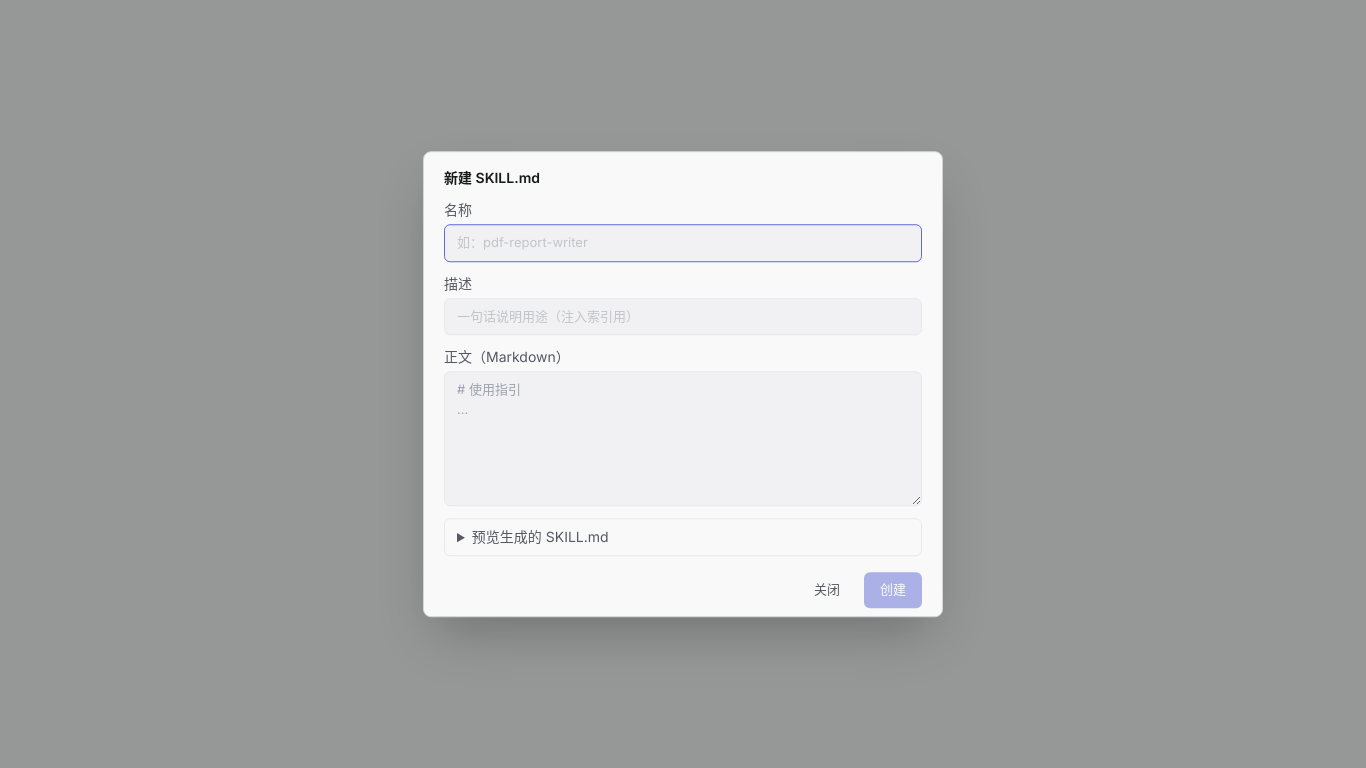
Scenario: SkillCreateDialog › 创建失败内联红字展示且弹窗不关
Type "New One" into the field labelled "名称" at (683, 243), box [444, 224, 922, 262]
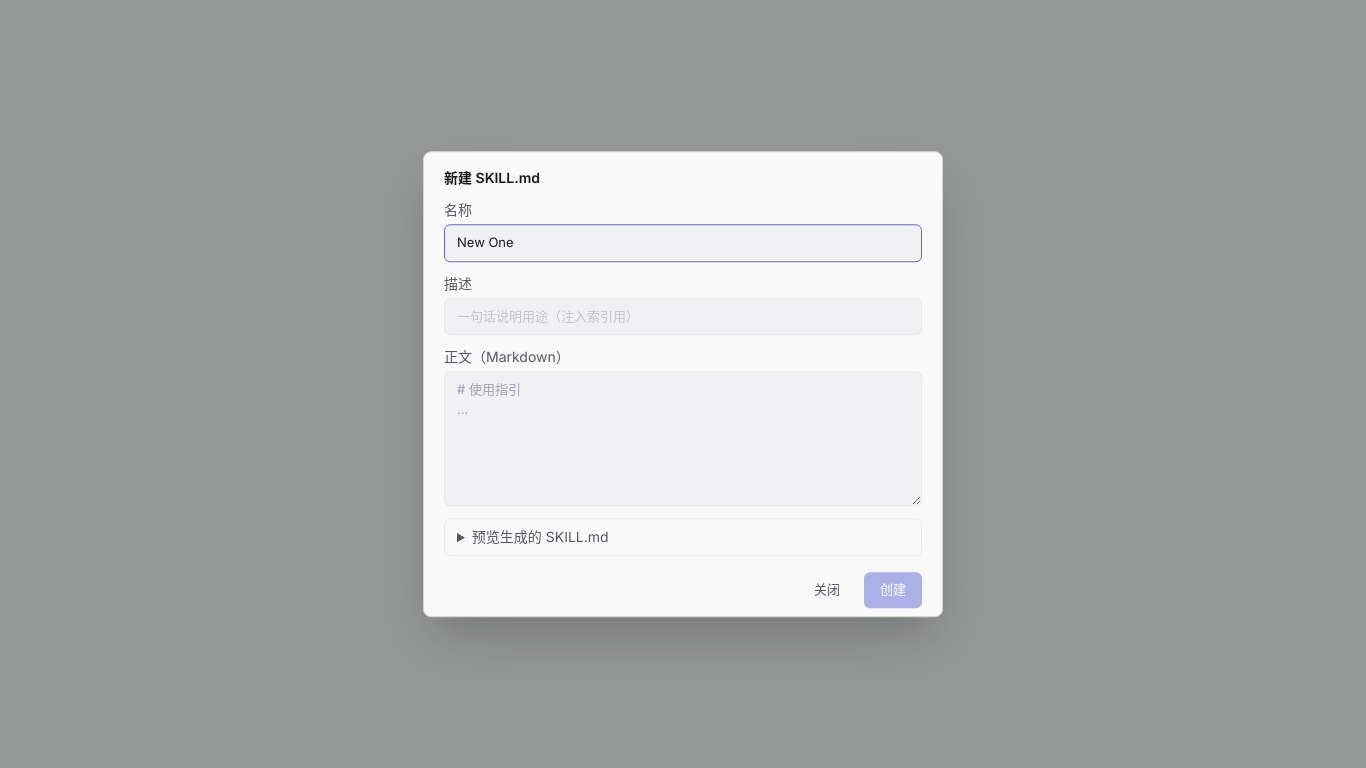
Type "d" into the field labelled "描述" at (683, 317), box [444, 298, 922, 335]
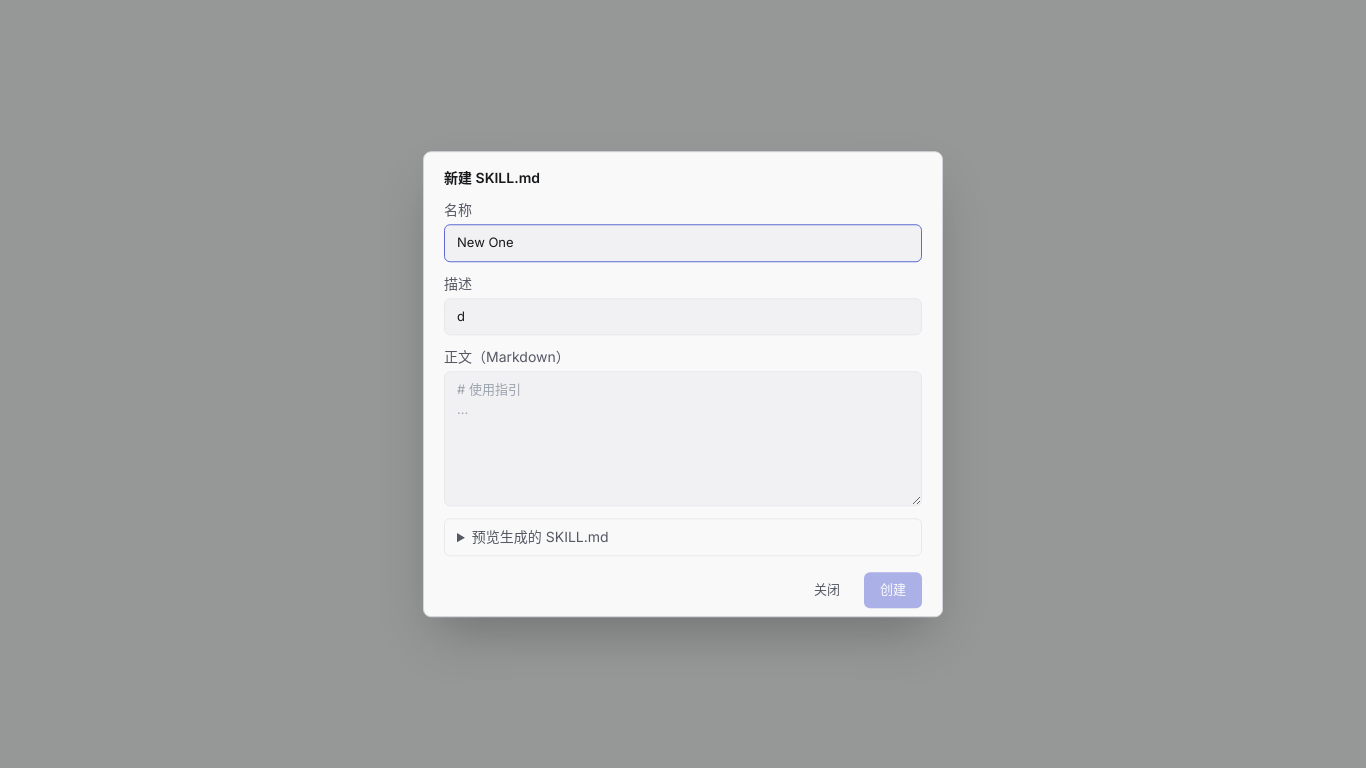
Type "# 你好" into the text box labelled "正文" at (683, 439), box [444, 371, 922, 506]
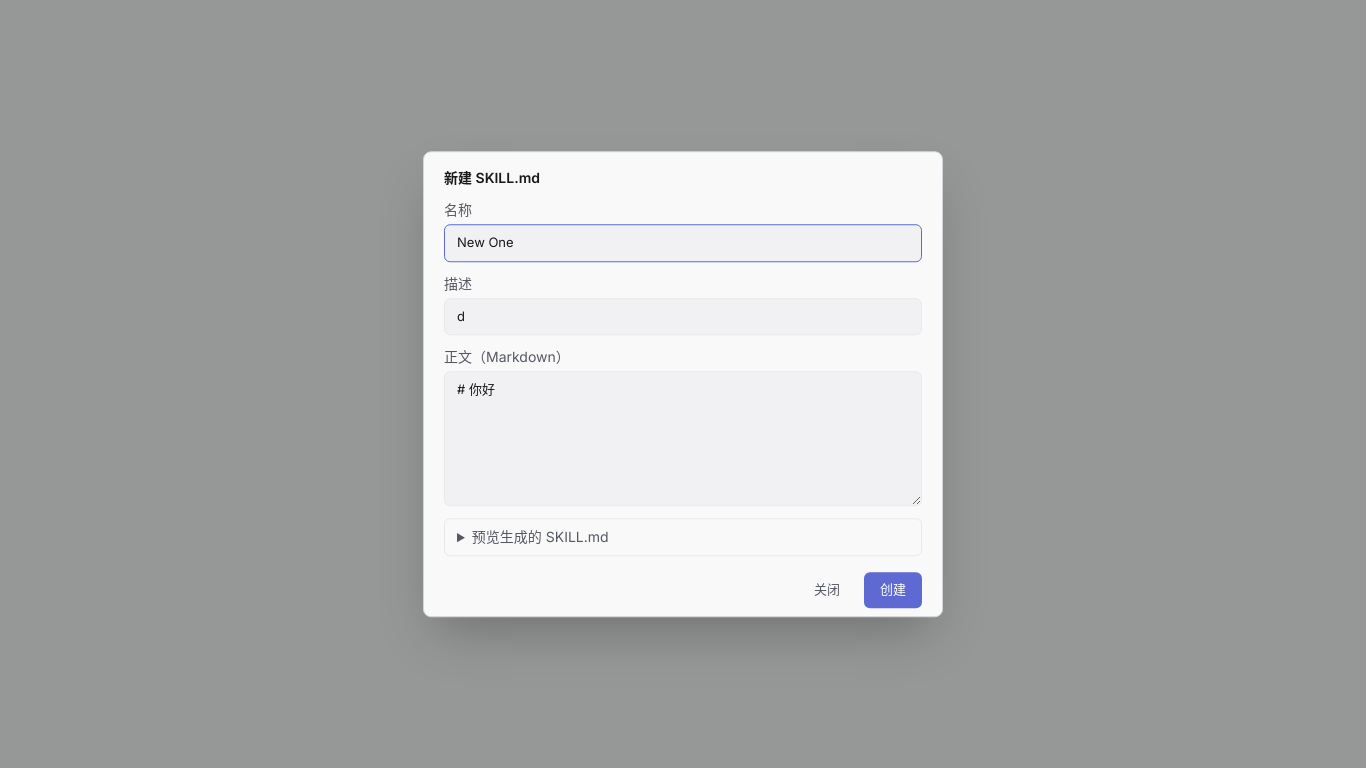
Click the button "创建" at (893, 590), box [864, 572, 922, 608]
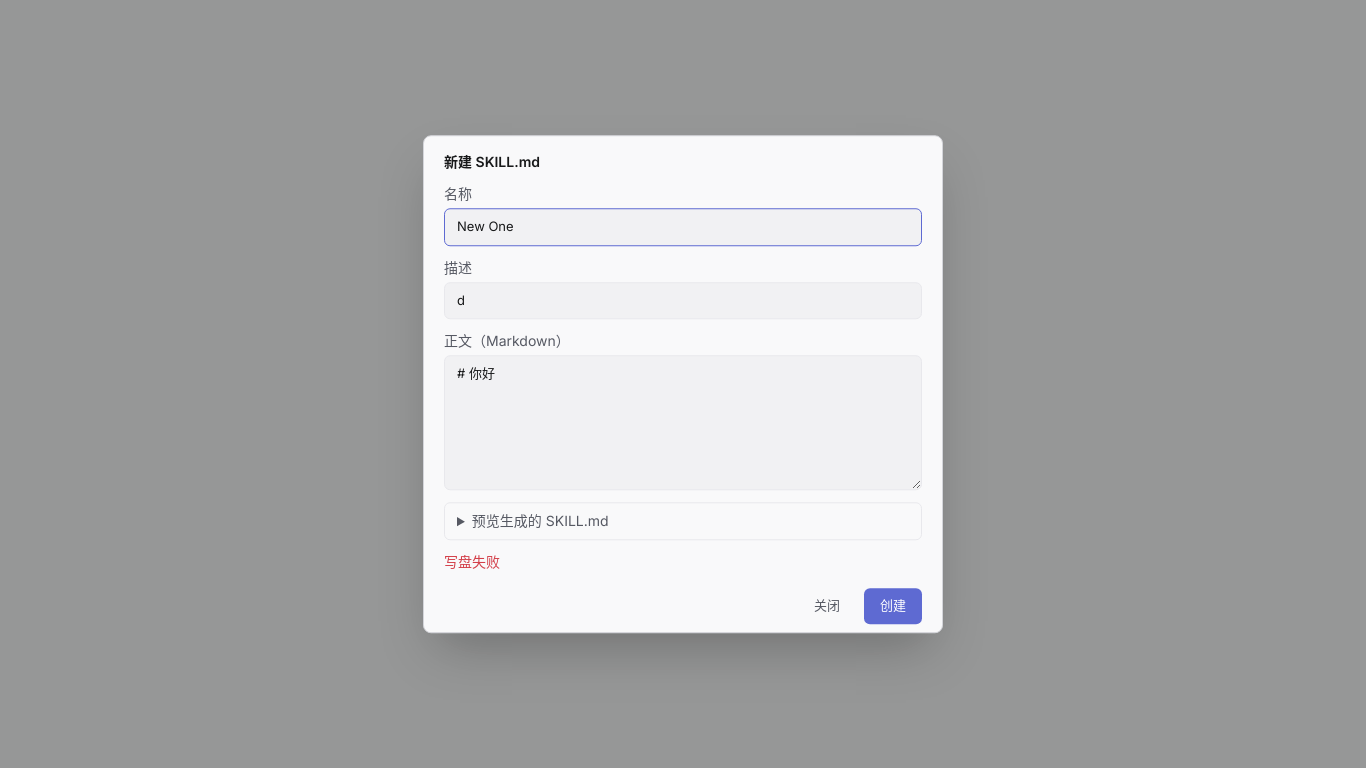
Expected: the text "写盘失败" is shown, [444, 553, 500, 570]
